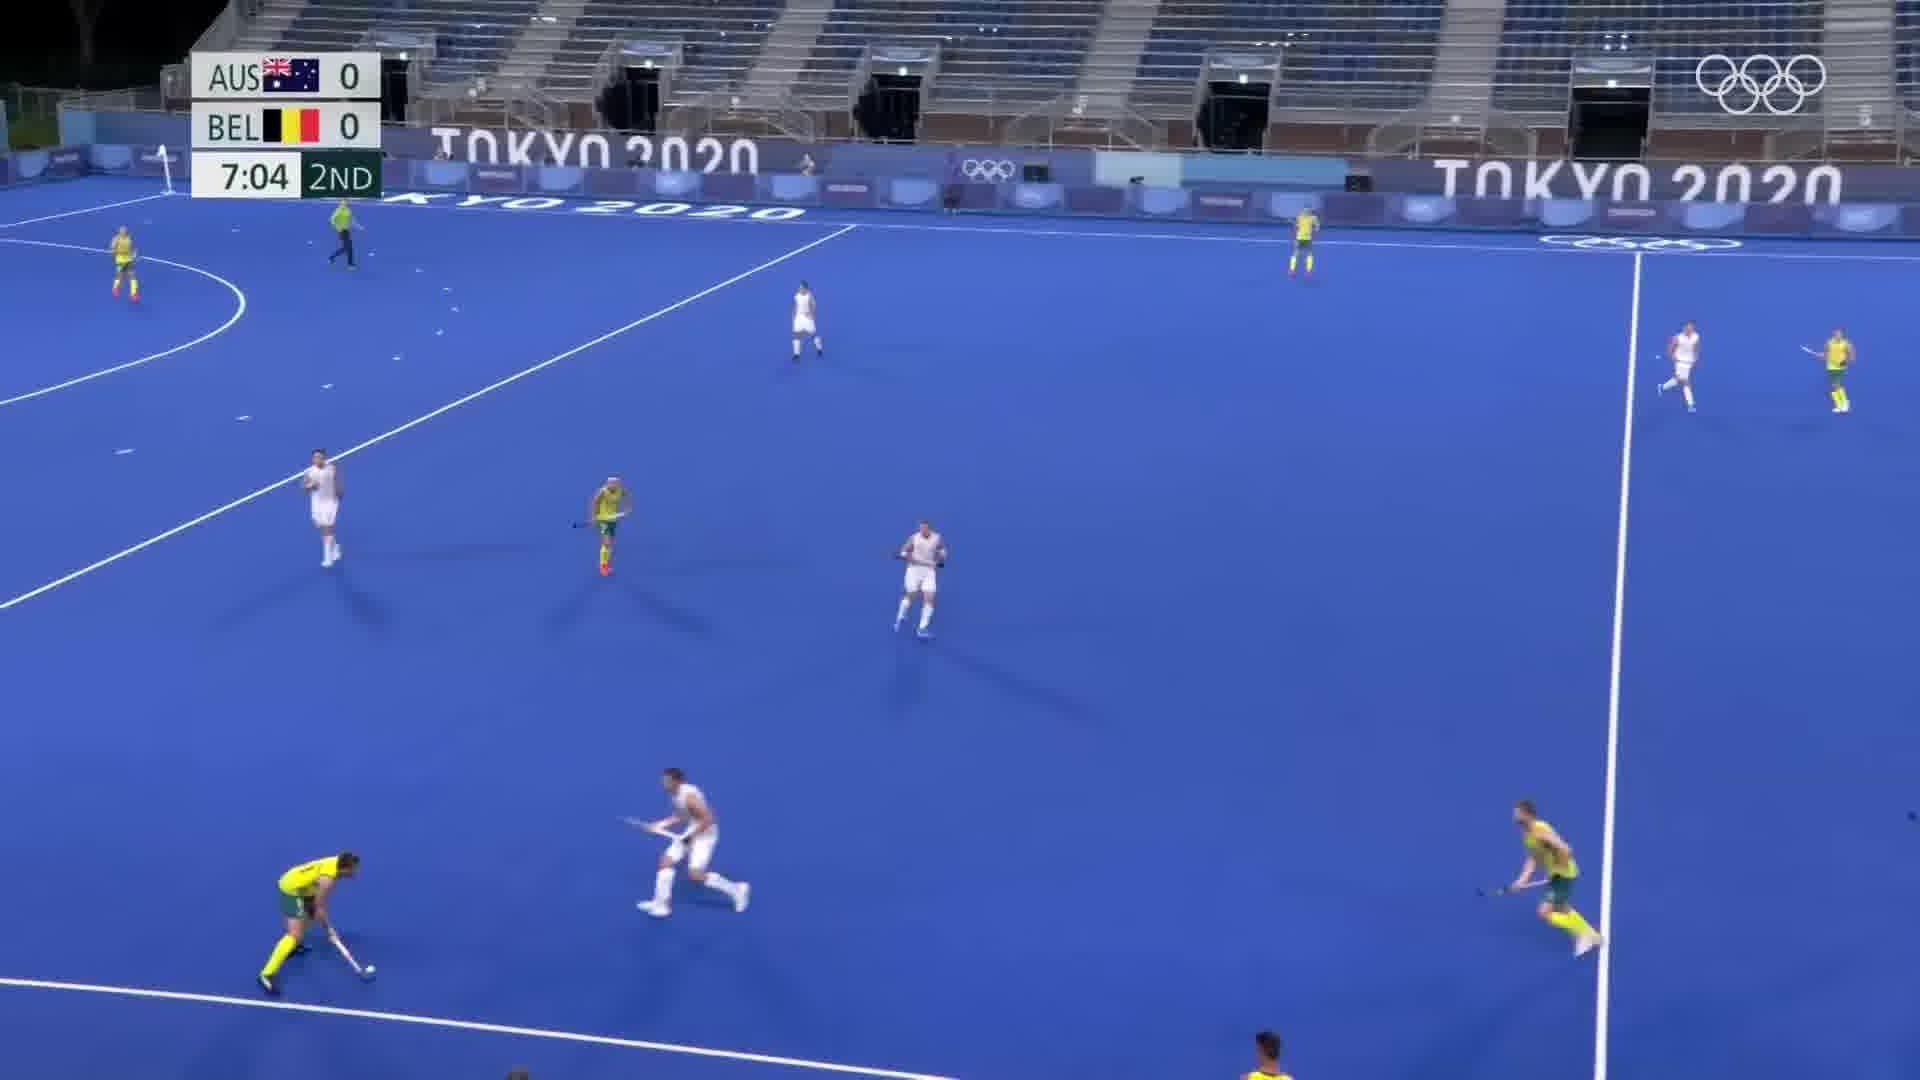ball: (363, 957, 378, 975)
